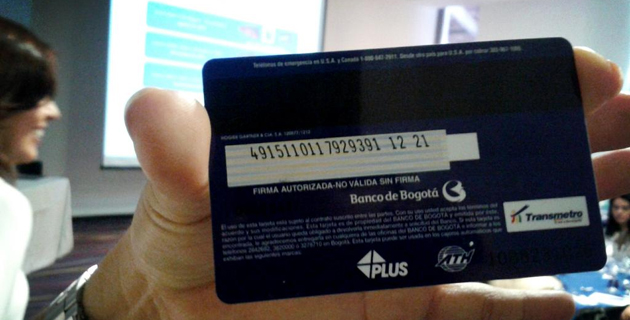tarjeta: (204, 37, 607, 304)
